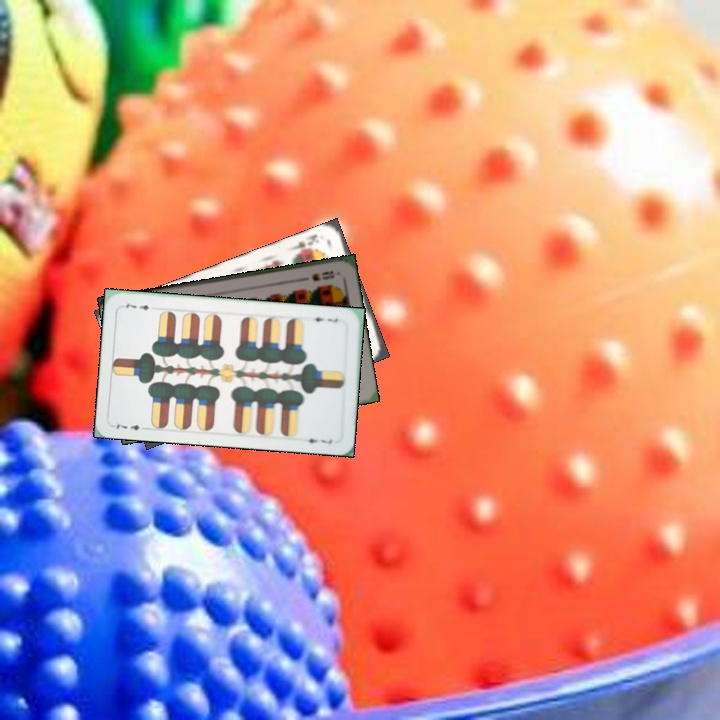E7: (109, 420, 150, 433), (307, 313, 341, 325)
S8: (307, 267, 336, 284)
SK: (287, 230, 321, 258)
